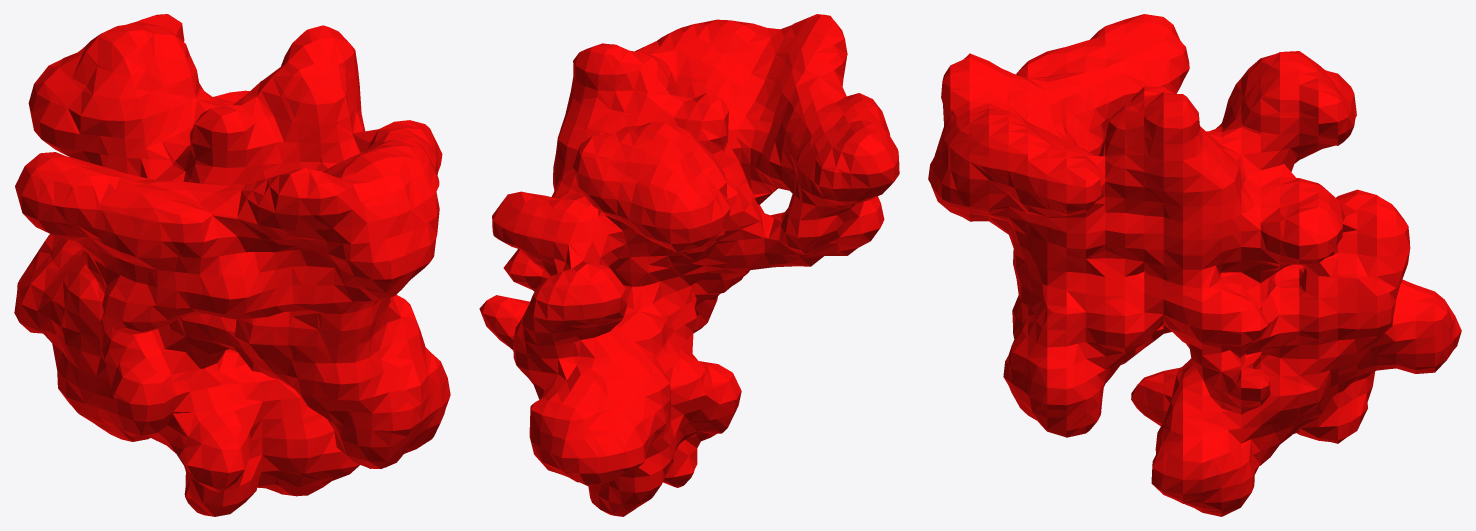
Rendered from rpoC_coarse.dae.
3 renders of one model, left to right at view 1: azimuth 30°, elevation 25°; view 2: azimuth 150°, elevation 25°; view 3: azimuth 270°, elevation 25°, orthographic. The views are drawn at different scales.
Parts seen in each view (by area): view 1: rpoC; view 2: rpoC; view 3: rpoC.
Part boxes in pixels (bbox=[...]): rpoC: bbox=[14, 14, 450, 516]; rpoC: bbox=[479, 14, 899, 516]; rpoC: bbox=[928, 14, 1461, 516].
Bounding box in the file's own units: 95.3 × 107 × 123.
